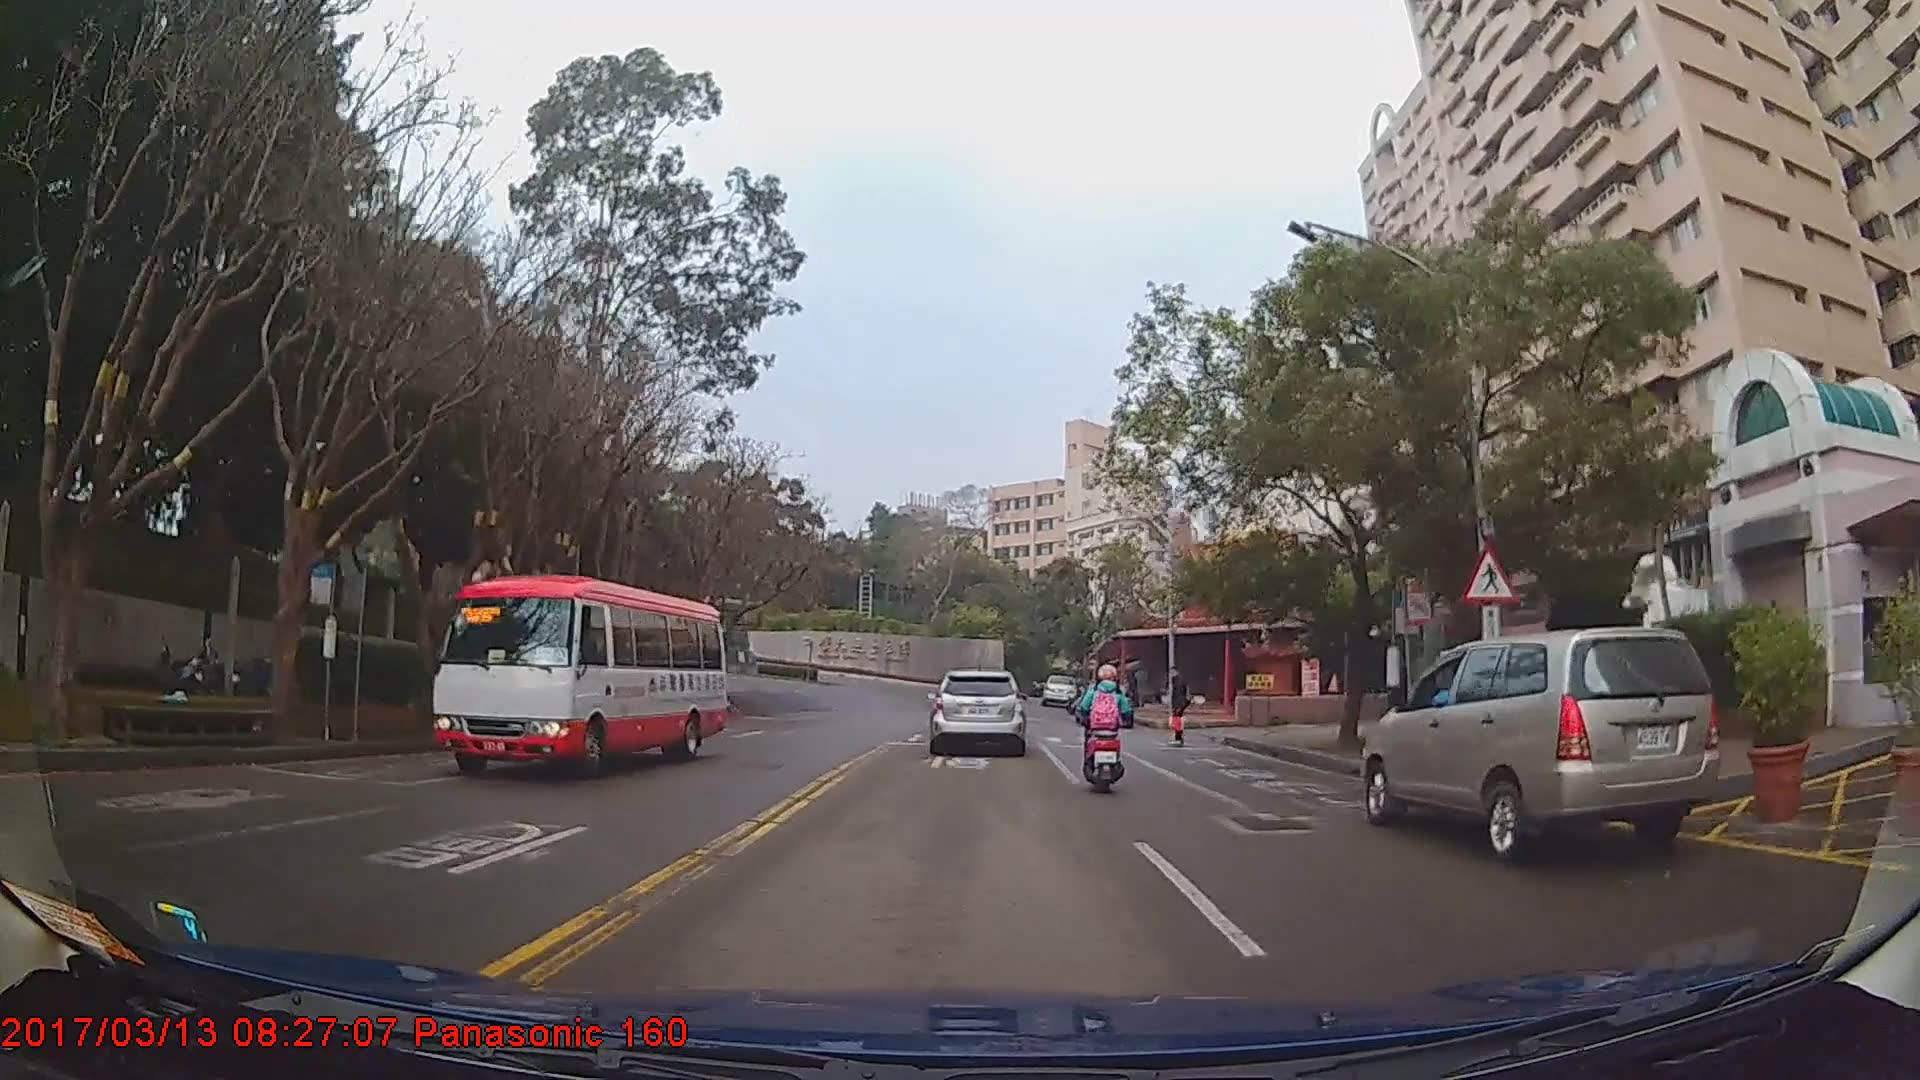pedestrian: (1166, 668, 1194, 750)
rider: (1074, 666, 1131, 796)
vehicle: (1361, 623, 1723, 858), (434, 572, 725, 779), (925, 669, 1027, 755), (1042, 673, 1078, 705)
